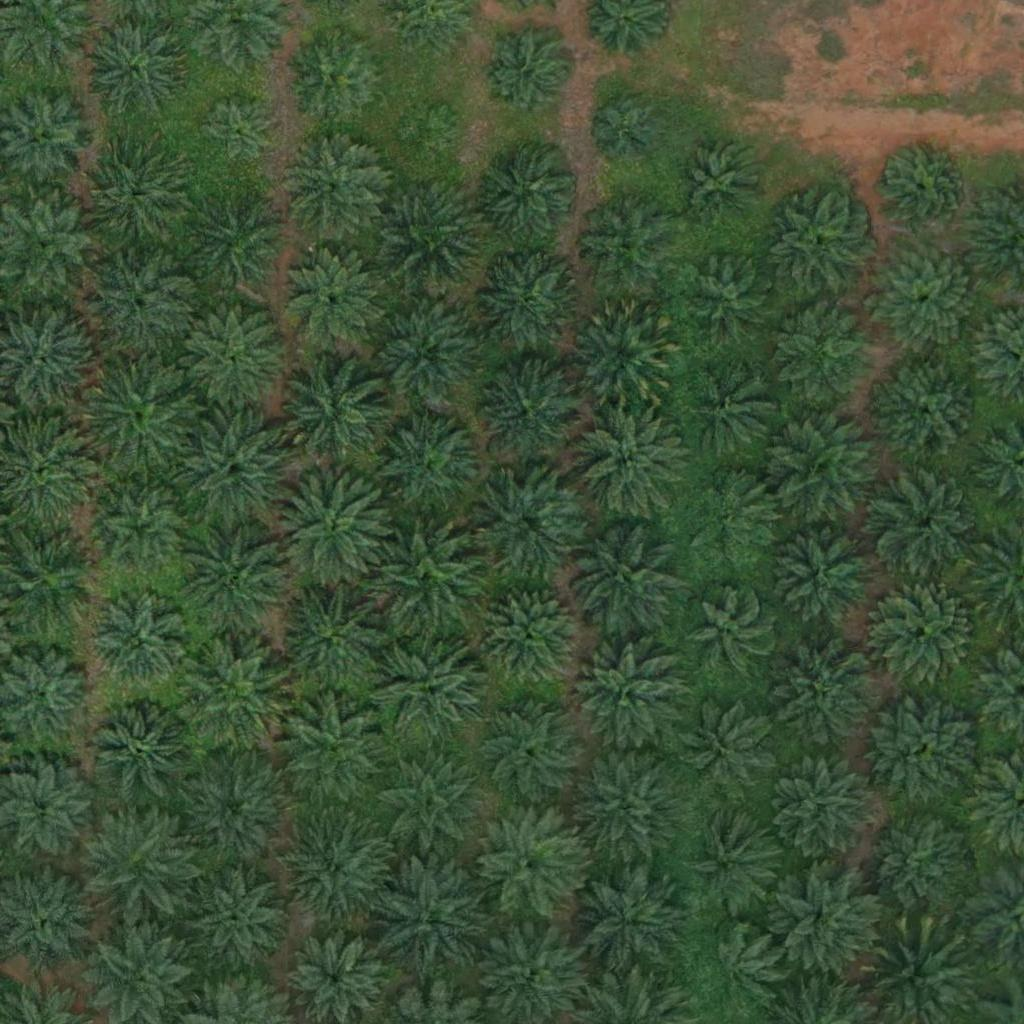Kelapa_Sawit: (180, 519, 293, 633), (278, 695, 391, 809), (869, 243, 982, 357), (873, 355, 986, 469), (371, 750, 484, 864), (373, 860, 486, 974), (281, 815, 394, 929), (567, 299, 680, 412), (470, 140, 583, 253), (84, 352, 197, 465), (181, 412, 294, 525), (275, 473, 388, 586), (277, 582, 390, 695), (571, 403, 684, 516), (566, 520, 679, 633), (570, 642, 683, 755), (768, 750, 881, 863), (770, 864, 883, 977), (181, 644, 293, 758), (471, 248, 583, 361), (372, 177, 484, 290), (370, 299, 482, 412), (82, 249, 194, 362), (177, 753, 289, 866), (278, 353, 390, 466), (368, 406, 480, 519), (367, 522, 479, 635), (375, 636, 487, 749), (470, 469, 582, 582), (474, 693, 586, 806), (573, 750, 685, 863), (771, 413, 883, 526), (769, 521, 881, 634), (873, 470, 985, 583), (872, 694, 984, 807), (863, 810, 975, 923), (572, 865, 684, 978), (472, 808, 584, 921), (80, 807, 192, 920), (575, 196, 675, 297), (288, 27, 388, 128), (280, 135, 380, 236), (280, 246, 380, 347), (187, 191, 287, 292), (185, 307, 285, 408), (85, 14, 185, 115), (82, 147, 182, 248), (94, 705, 194, 806), (476, 361, 576, 462), (479, 584, 579, 685), (777, 645, 877, 746), (875, 581, 975, 682), (682, 811, 782, 912), (188, 870, 288, 971), (89, 592, 189, 692), (768, 195, 868, 295), (781, 305, 881, 405), (675, 140, 763, 228), (95, 489, 183, 577), (686, 370, 774, 458), (691, 928, 779, 1016), (691, 260, 778, 348), (482, 30, 569, 118), (690, 474, 777, 562), (685, 588, 772, 676), (686, 704, 773, 792), (876, 143, 963, 231), (198, 97, 273, 172), (593, 98, 656, 161), (395, 101, 457, 164)
